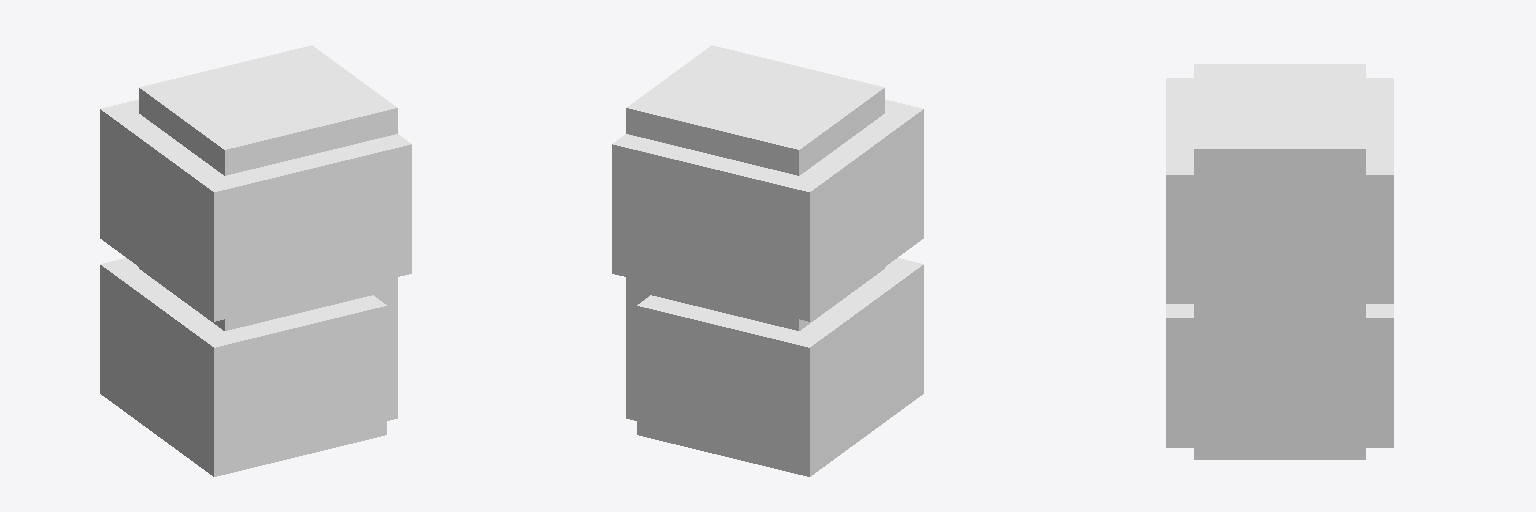
The model's file is stoneWallLedgeTip-0.obj.
3 views of the same model, side by side, from view 1: azimuth 30°, elevation 25°; view 2: azimuth 150°, elevation 25°; view 3: azimuth 270°, elevation 25° (orthographic).
Parts seen in each view (by area): view 1: object 1; view 2: object 1; view 3: object 1.
Part boxes in pixels (bbox=[...]): object 1: bbox=[100, 45, 411, 476]; object 1: bbox=[612, 45, 923, 476]; object 1: bbox=[1166, 64, 1393, 459].
Size of the model in its own units: 0.8 by 1.2 by 0.8.